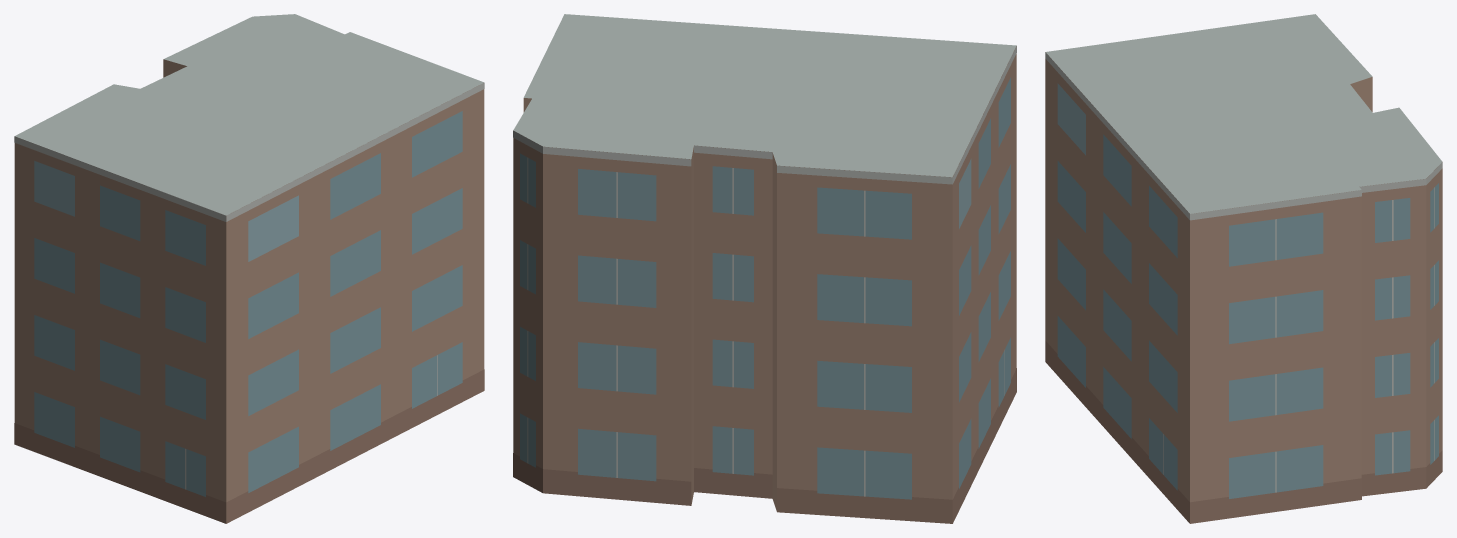
Rendered from survey-upis-32739898.glb.
3 renders of one model, left to right at view 1: azimuth 30°, elevation 25°; view 2: azimuth 150°, elevation 25°; view 3: azimuth 270°, elevation 25°, orthographic. The views are drawn at different scales.
Visible parts, largest first — view 1: survey-upis-32739898.tmp; view 2: survey-upis-32739898.tmp; view 3: survey-upis-32739898.tmp.
Part boxes in pixels (x1,y1,x2,y2): survey-upis-32739898.tmp: (14,14,484,523); survey-upis-32739898.tmp: (513,14,1016,523); survey-upis-32739898.tmp: (1045,14,1442,523).
Bounding box in the file's own units: 16.13 × 11.65 × 13.54.
